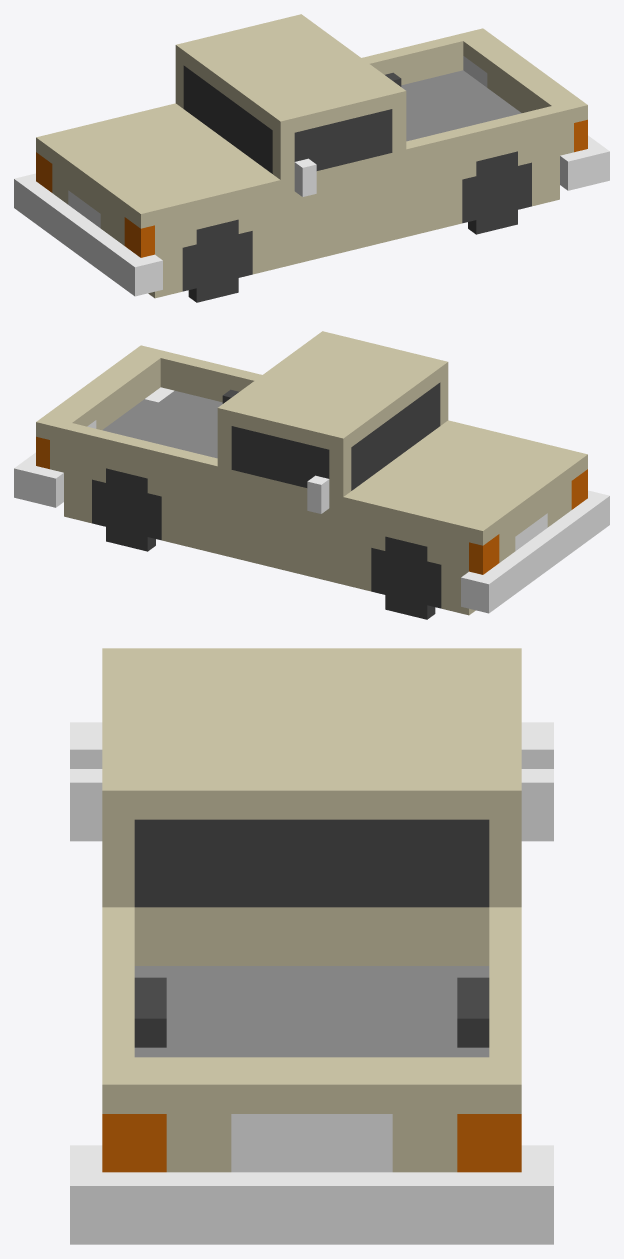
The model's file is car_08.glb.
3 views of the same model, one above another, from view 1: azimuth 30°, elevation 25°; view 2: azimuth 150°, elevation 25°; view 3: azimuth 270°, elevation 25° (orthographic). The views are drawn at different scales.
Parts seen in each view (by area): view 1: ObjObject.004; view 2: ObjObject.004; view 3: ObjObject.004.
Boxes of the visible parts, bbox=[...] form: ObjObject.004: bbox=[14, 14, 609, 302]; ObjObject.004: bbox=[14, 331, 609, 619]; ObjObject.004: bbox=[70, 648, 553, 1244].
Bounding box in the file's own units: 3.4 × 1.1 × 1.5.
Materials: 1 (1 with a texture image).
